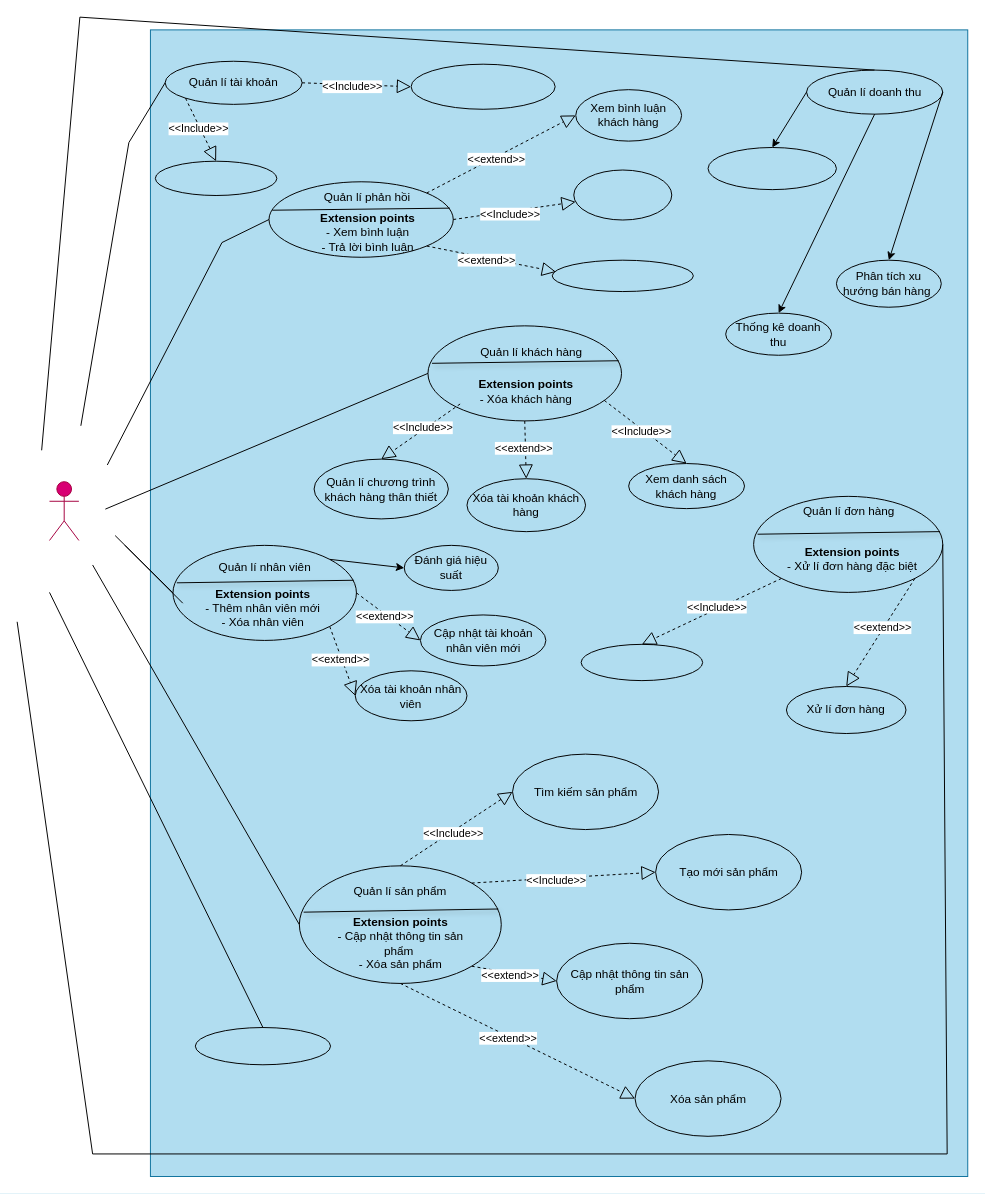
Some shapes in this 985 by 1194 pixel diagram are drawn without their labels. Each missing label, with the centre of its shape:
Admin: (64,510)
Phân loại phản hồi: (622,194)
Sao lưu và khôi phục dữ liệu: (262,1046)
Trả lời bình luận: (622,275)
Xem số lượng sản phẩm bán ra: (771,168)
Xem thông tin cá nhân: (215,178)
Xác nhận đơn hàng: (641,662)
Điều chỉnh thông tin cá nhân: (482,86)
